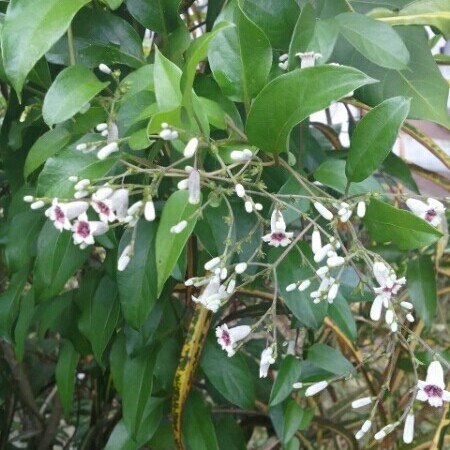obstacle: (17, 47, 432, 434)
